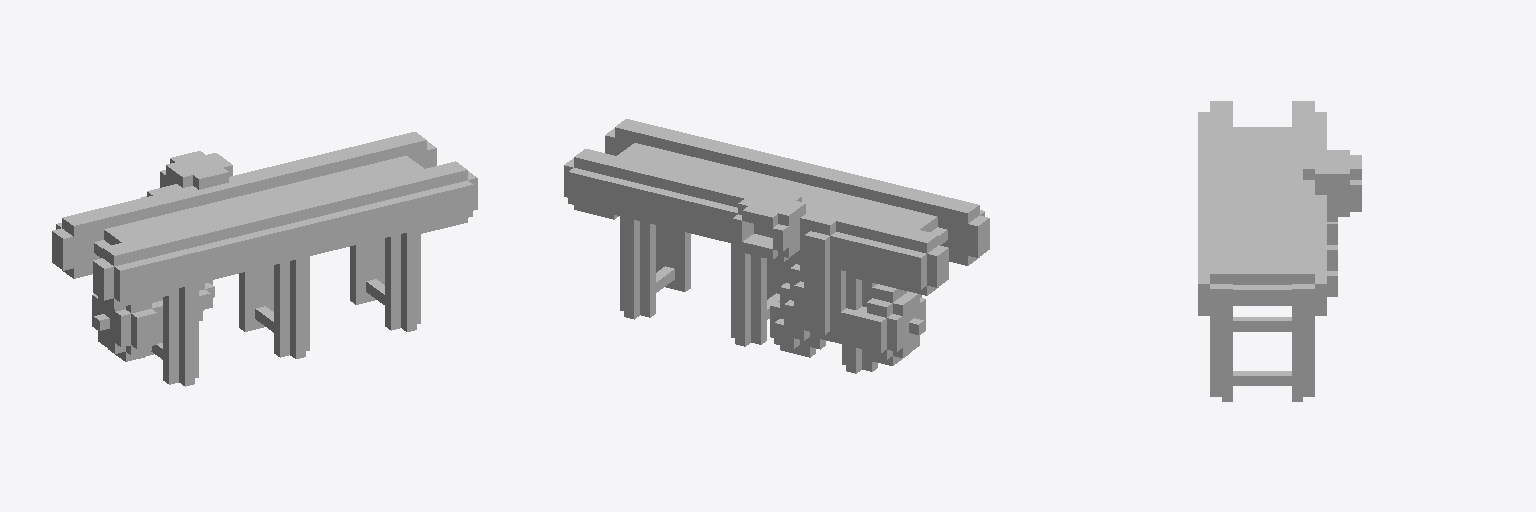
The model's file is Esteira 2.obj.
3 renders of one model, left to right at view 1: azimuth 30°, elevation 25°; view 2: azimuth 150°, elevation 25°; view 3: azimuth 270°, elevation 25°, orthographic.
Visible parts, largest first — view 1: object 1; view 2: object 1; view 3: object 1.
Part boxes in pixels (left/top/right/bottom): object 1: left=52, top=132, right=477, bottom=386; object 1: left=564, top=119, right=989, bottom=373; object 1: left=1198, top=101, right=1361, bottom=401.
Size of the model in its own units: 3.7 by 1.5 by 1.4.